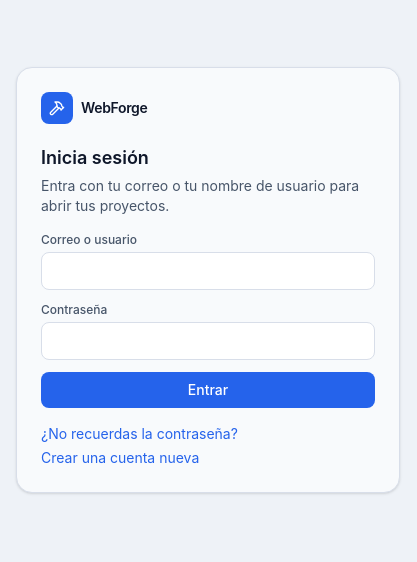
Scenario: LoginPage › el bloqueo de un día se muestra con la cuenta atrás que dice el servidor
The image size is (417, 562).
Type "ana@dominio.dev" into the field labelled "Correo o usuario". click: coordinates (208, 271)
box: [41,252,375,290]
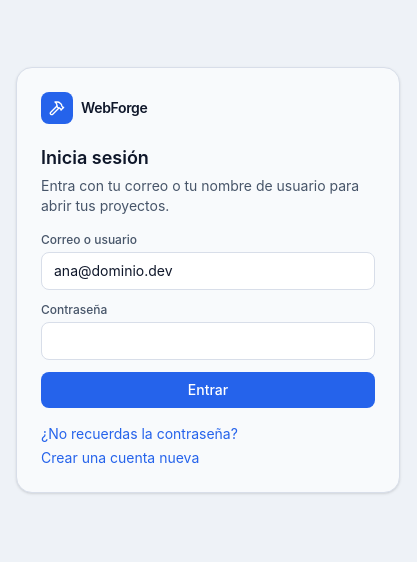
Type "S3creta-fuerte" into the password field labelled "Contraseña". click: coordinates (208, 341)
box: [41,322,375,360]
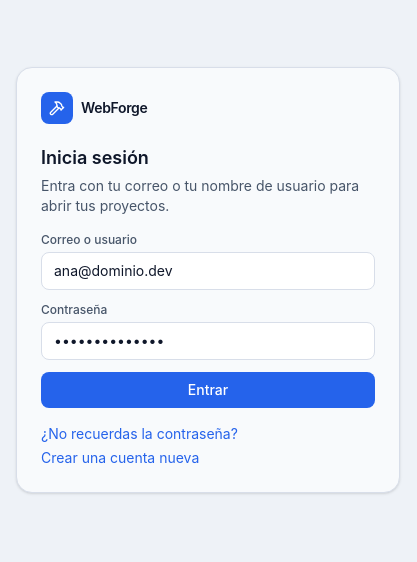
Submit the form named "Inicia sesión", box [41,232,375,408]
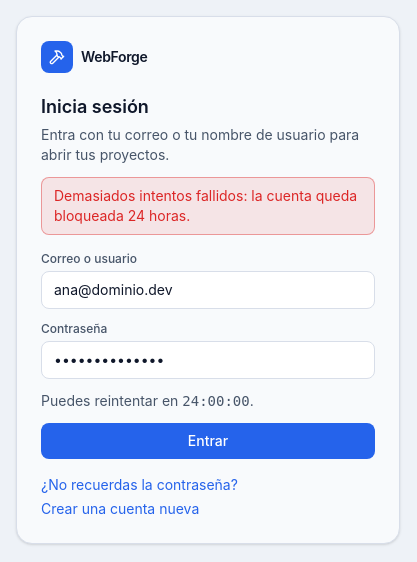
Result: the message shows "24 horas" at [54,187,357,224]
Result: the text with test id "bloqueo-resta" reads "24:00:00" at [182,393,250,409]
